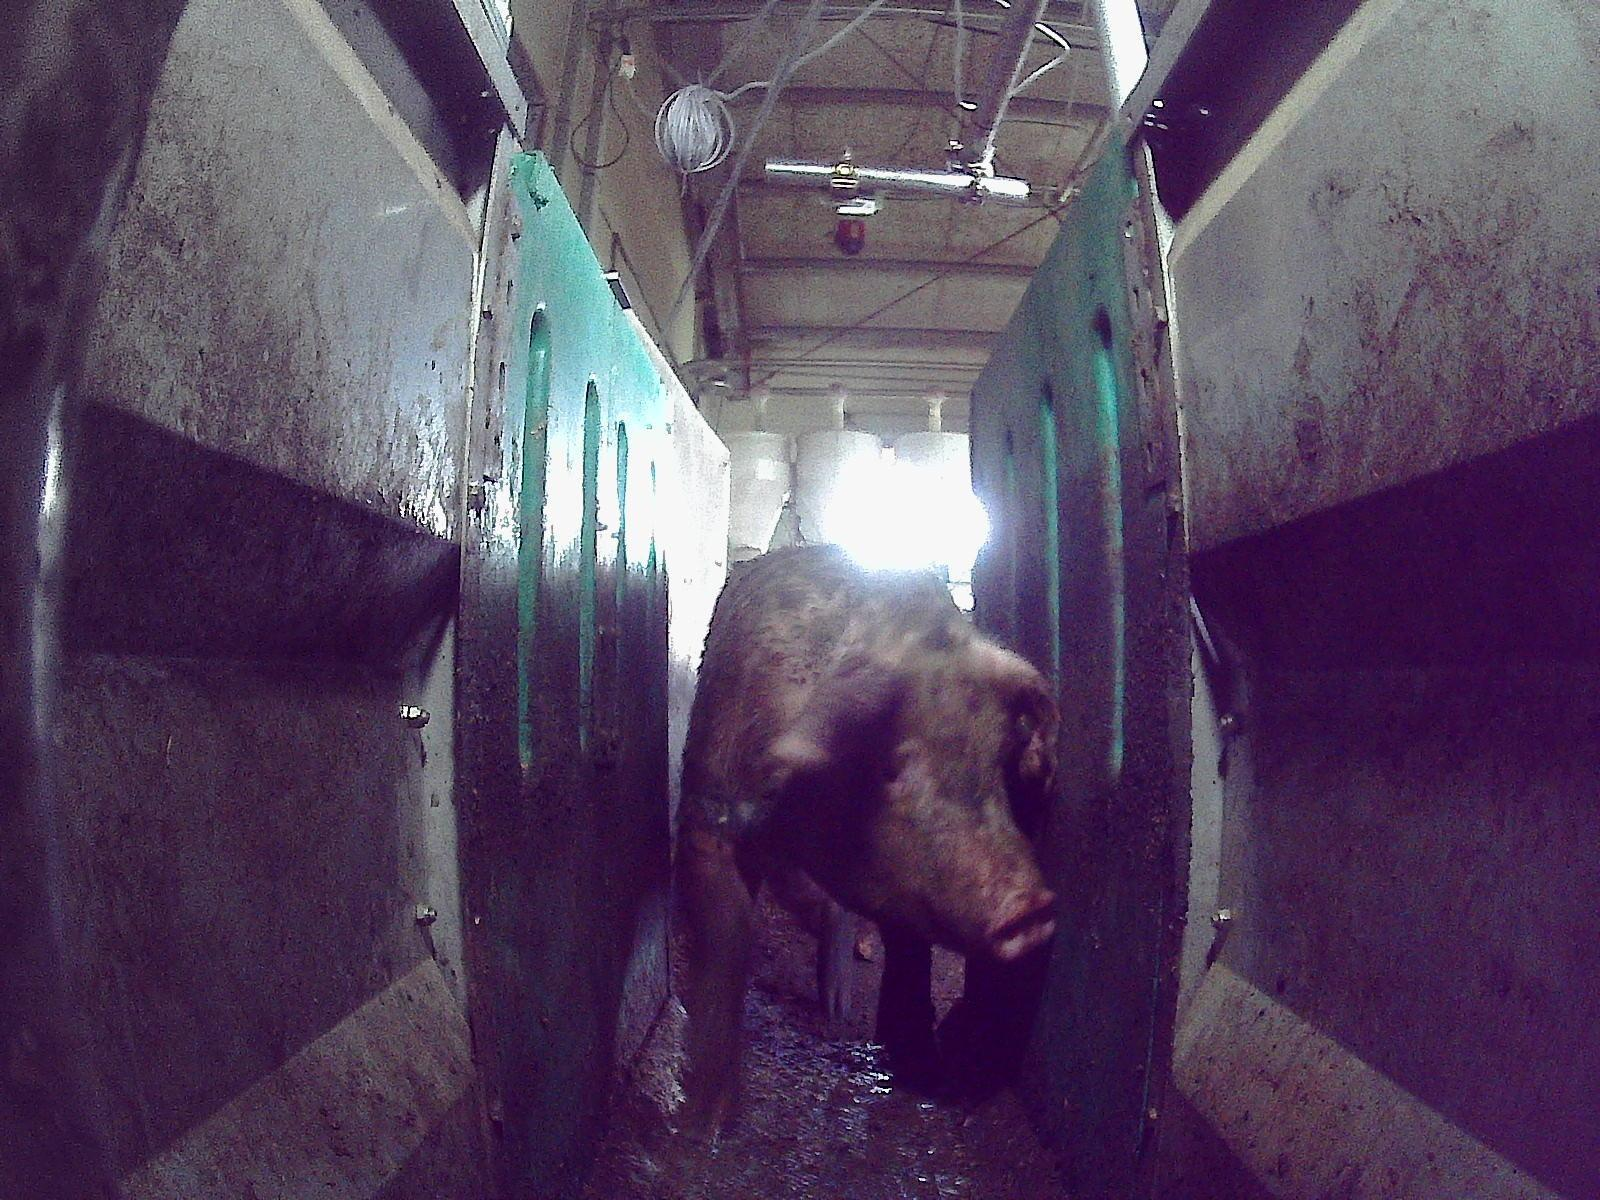Face: (764, 639, 1055, 967)
